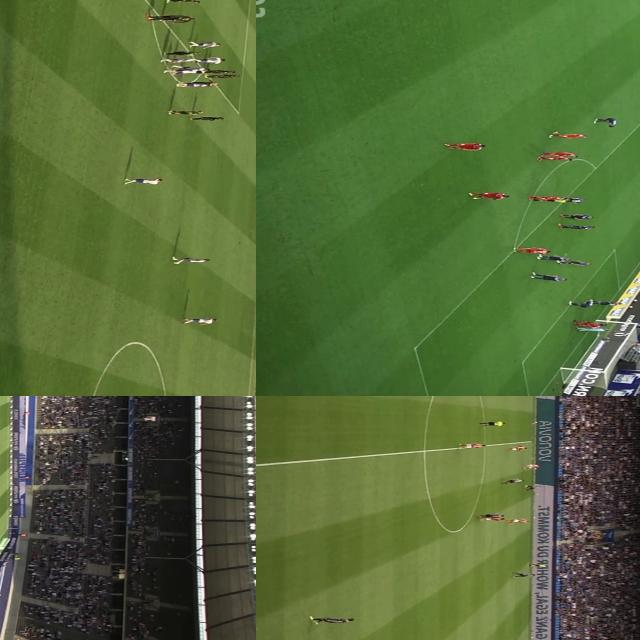ball: (522, 484, 530, 487)
player: (304, 616, 358, 626), (172, 254, 210, 266), (555, 221, 597, 231), (464, 192, 513, 200), (528, 272, 570, 281), (185, 39, 219, 50), (181, 315, 215, 326), (444, 142, 490, 150), (126, 176, 166, 184), (591, 117, 619, 128), (538, 156, 576, 164), (550, 132, 588, 140), (194, 114, 224, 124), (150, 12, 183, 21), (182, 78, 218, 86), (206, 74, 242, 82), (508, 570, 536, 580), (507, 517, 533, 527), (179, 67, 211, 75), (544, 151, 580, 158), (453, 442, 489, 449), (536, 254, 566, 262), (572, 298, 596, 308), (169, 108, 203, 115), (192, 58, 225, 65), (554, 259, 592, 265), (166, 56, 194, 64), (556, 196, 584, 204), (512, 248, 548, 254), (170, 50, 200, 57), (162, 16, 196, 22), (528, 194, 562, 200), (170, 68, 203, 74), (178, 81, 206, 88), (572, 322, 600, 329), (482, 512, 506, 520), (164, 0, 202, 5), (562, 213, 593, 219), (592, 300, 622, 306), (506, 446, 528, 454), (207, 68, 235, 74), (500, 478, 527, 484), (522, 463, 546, 469), (578, 328, 608, 332), (483, 516, 505, 521), (523, 486, 544, 491), (578, 323, 604, 327)
